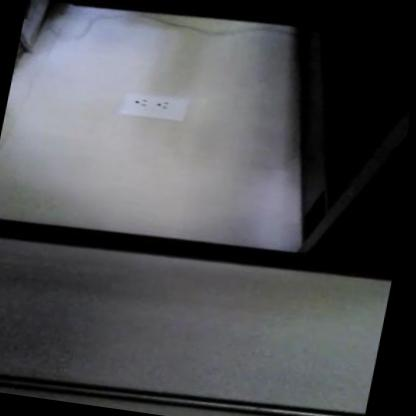OUTLET: (114, 87, 189, 123)
